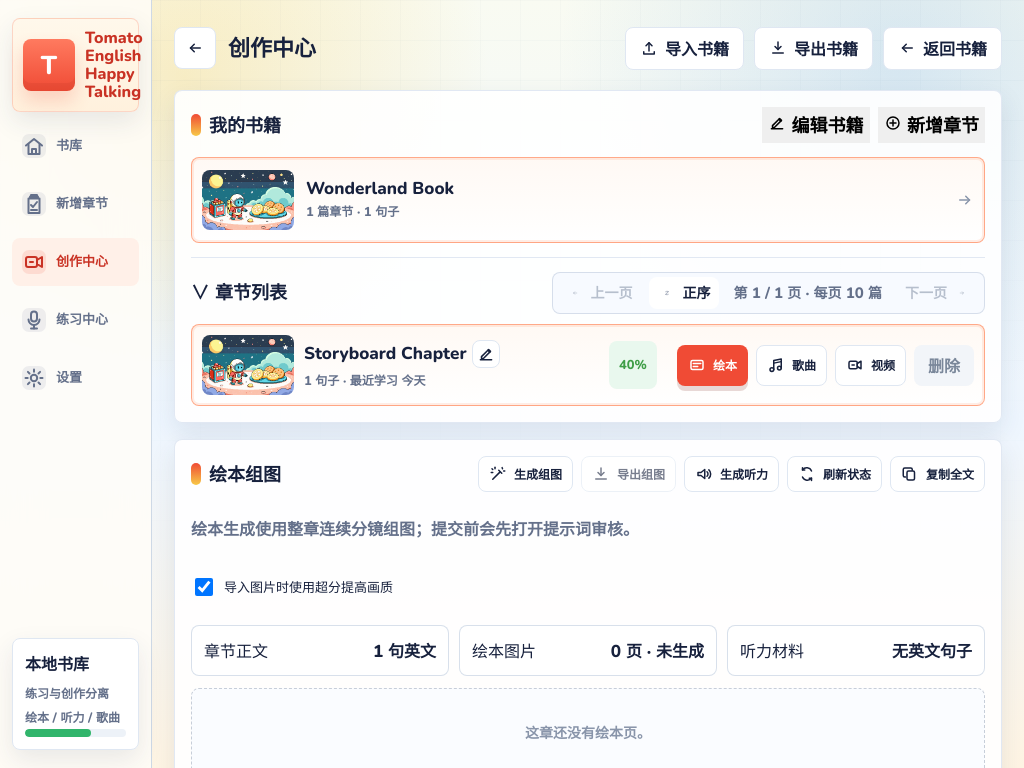
Test: App › edits book info from the creation center without showing book descriptions in the book card
Expected: the heading "创作中心" is shown, [228,32,316,64]
Expected: the text "Victorian fantasy book world with recurring Wonderland characters." is not shown
Click the button "编辑书籍".
click(816, 125)  # box [762,107,870,143]
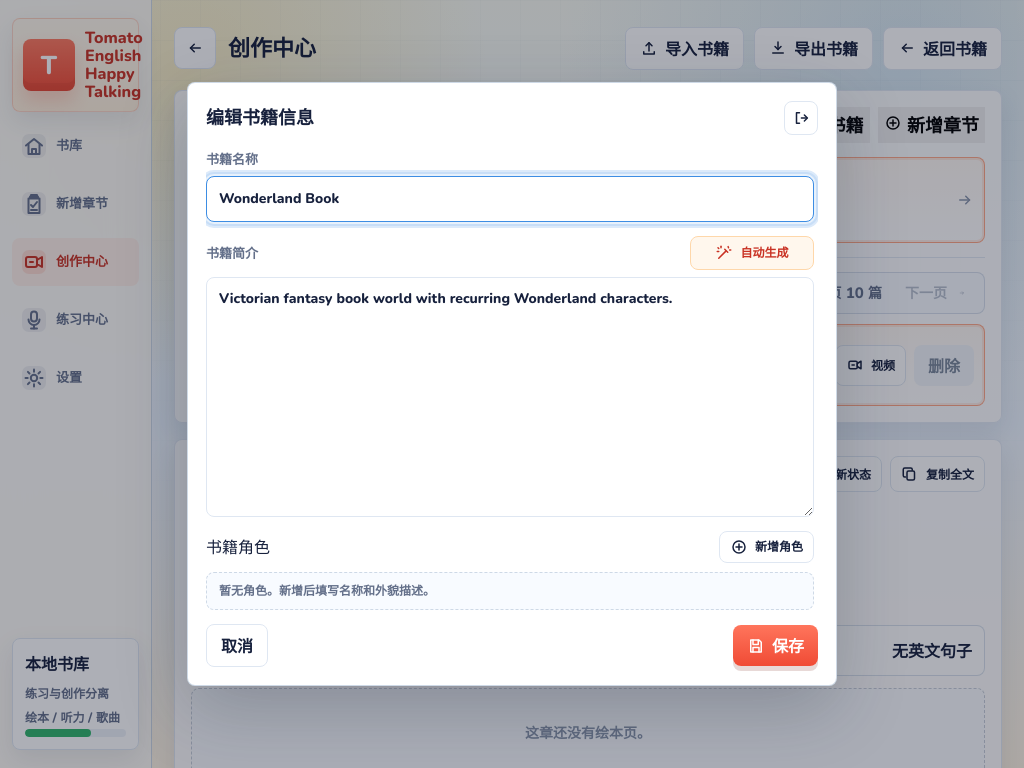
Replace the text in the field labelled "书籍名称" with "Updated Wonderland Book" at [510, 199], box [206,176,814,222]
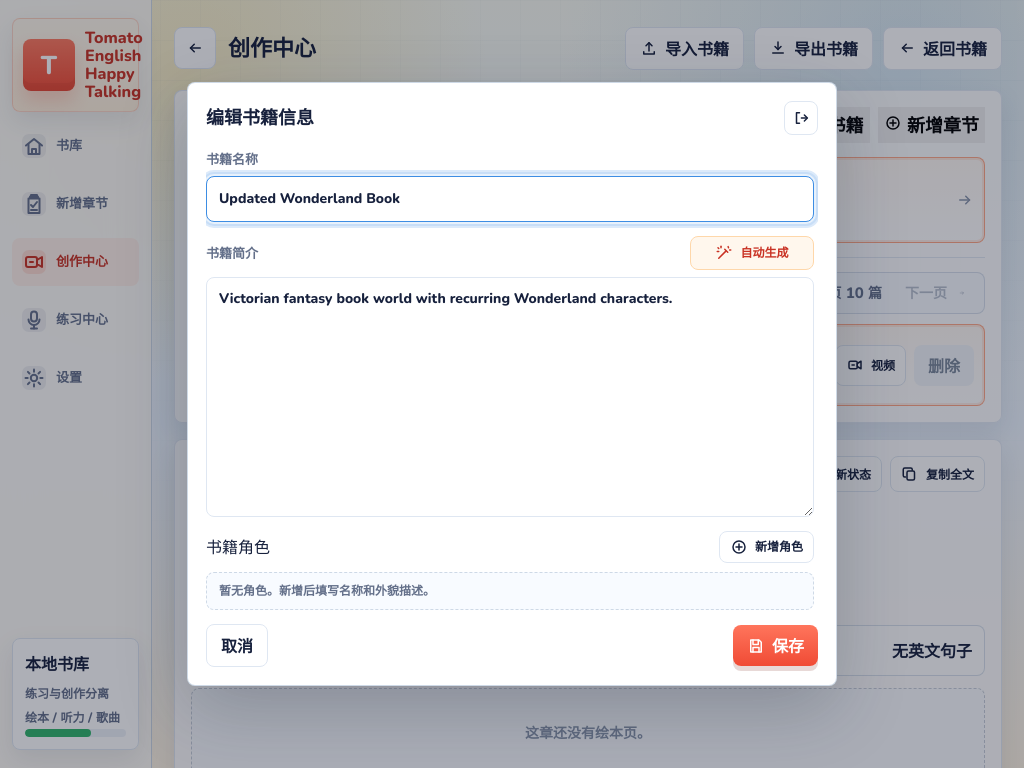
Click the button with aria-label "AI 自动生成书籍简介".
click(752, 253)  # box [690,236,814,270]
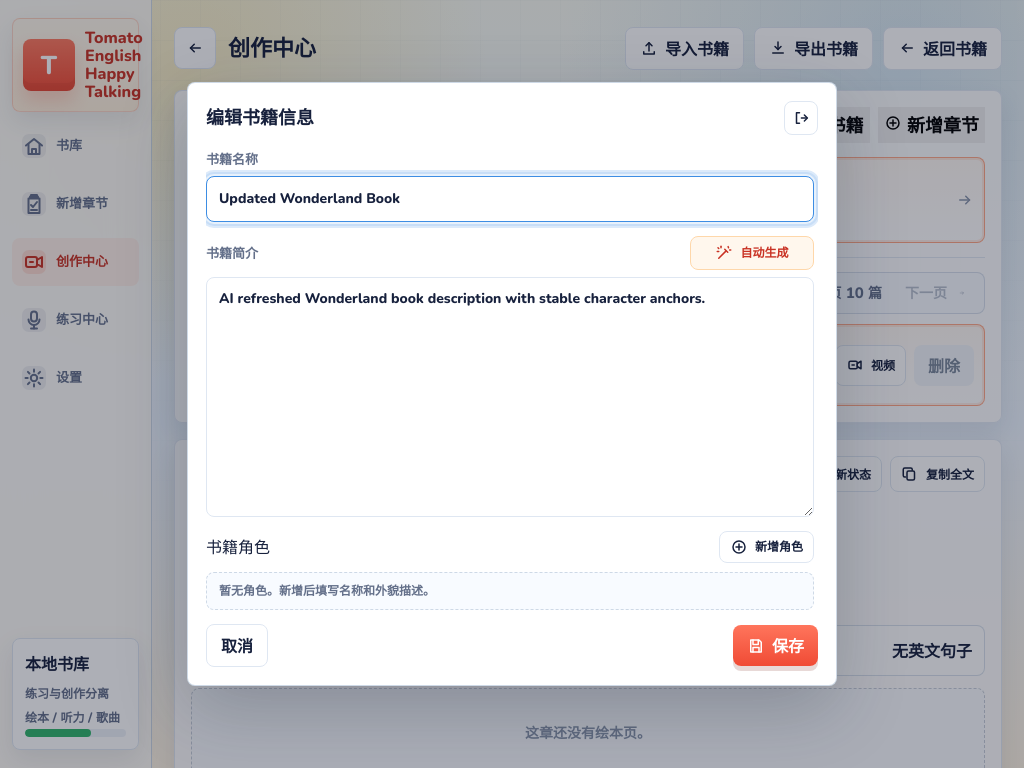
Result: the text box named "书籍简介" holds "AI refreshed Wonderland book description with stable character anchors."
Replace the text in the text box named "书籍简介" with "Updated character roster and visual style." at [510, 397], box [206,277,814,517]
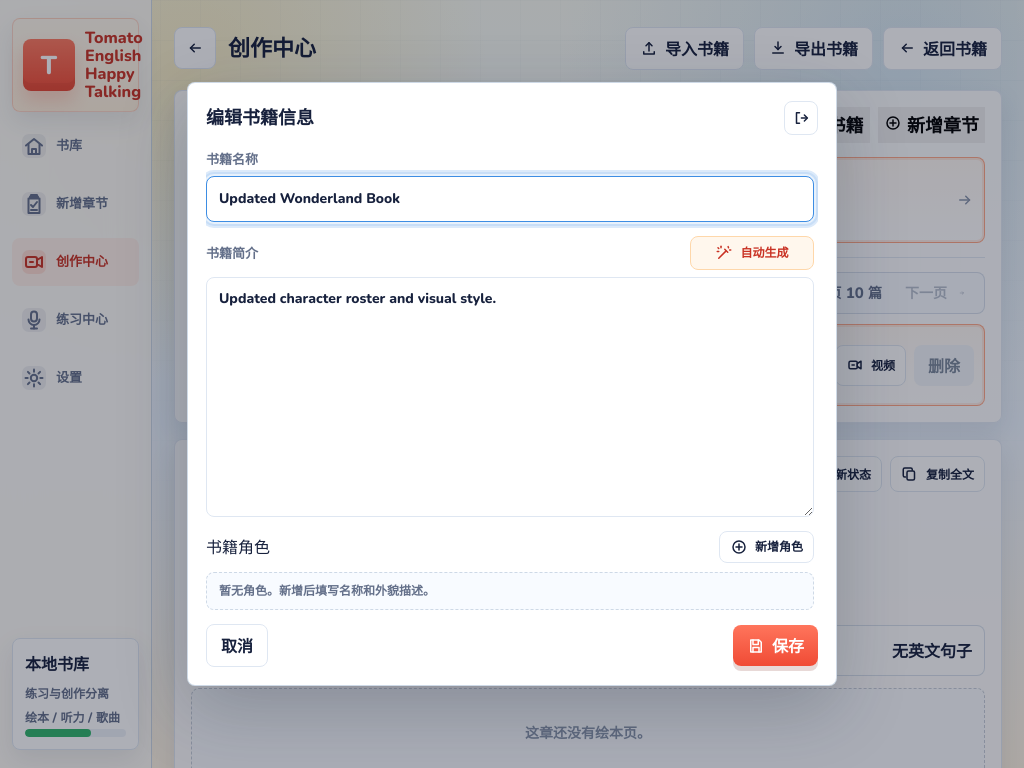
Click the button "保存".
click(776, 646)  # box [733,625,818,666]
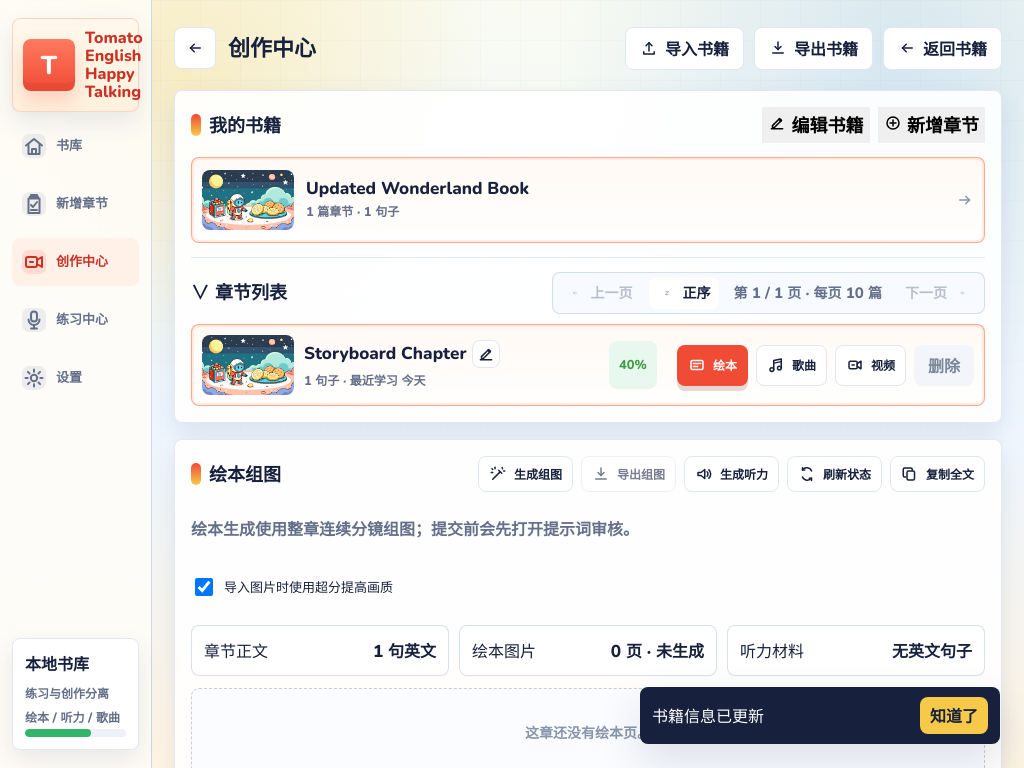
Result: the text "书籍信息已更新" is shown at [652,705,764,728]
